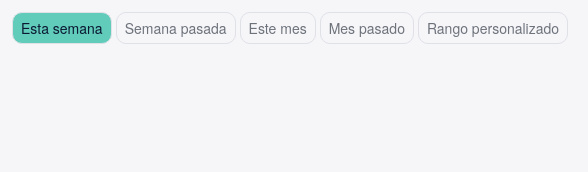
Scenario: PeriodFilter › TS-87: elegir el período personalizado muestra dos Input variant date con label asociado
Click the radio button labelled "Rango personalizado".
click(493, 28)  # box [418,12,568,44]
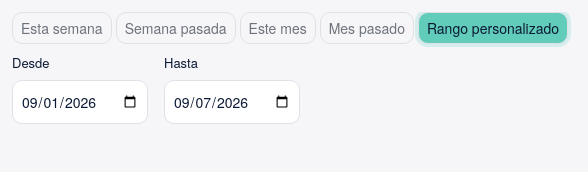
Expected: the date field labelled "Desde" is shown, [12,80,148,124]
Expected: the date field labelled "Hasta" is shown, [164,80,300,124]
